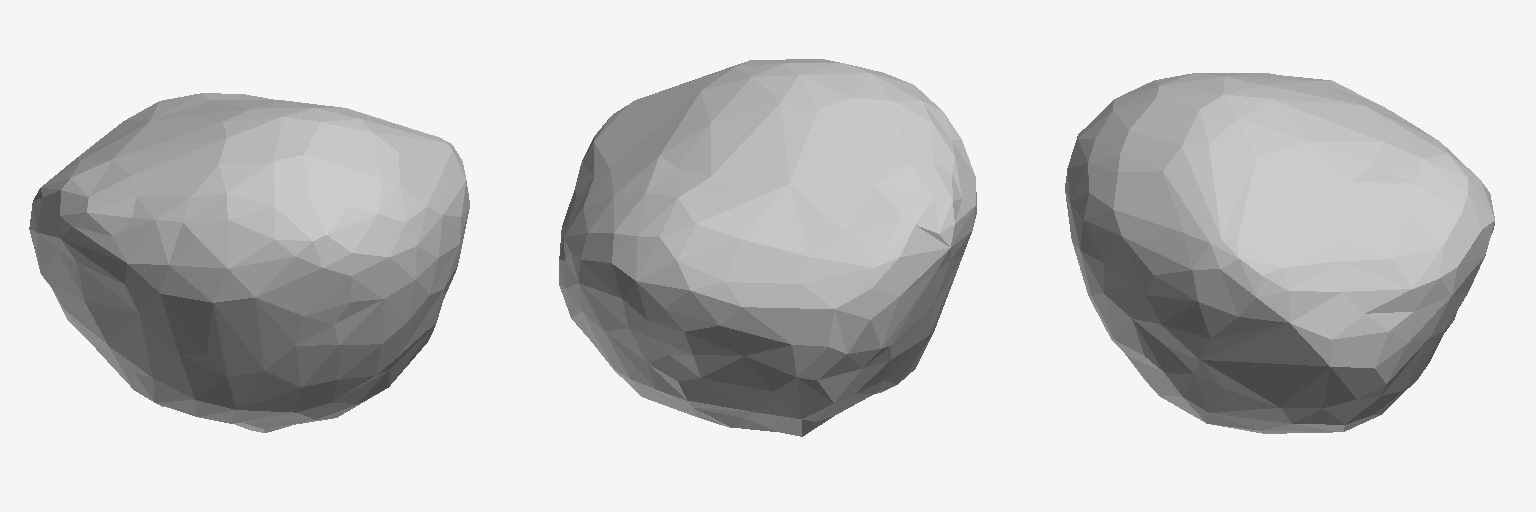
The model's file is Asteroid_Asset_Pack.obj.
3 renders of one model, left to right at view 1: azimuth 30°, elevation 25°; view 2: azimuth 150°, elevation 25°; view 3: azimuth 270°, elevation 25°, orthographic.
Parts seen in each view (by area): view 1: Asteroid_01; view 2: Asteroid_01; view 3: Asteroid_01.
Boxes of the visible parts, x1,y1,x2,y2 form: Asteroid_01: [29, 93, 469, 432]; Asteroid_01: [559, 59, 976, 436]; Asteroid_01: [1065, 73, 1494, 433].
Size of the model in its own units: 1.04 by 0.8398 by 1.02.